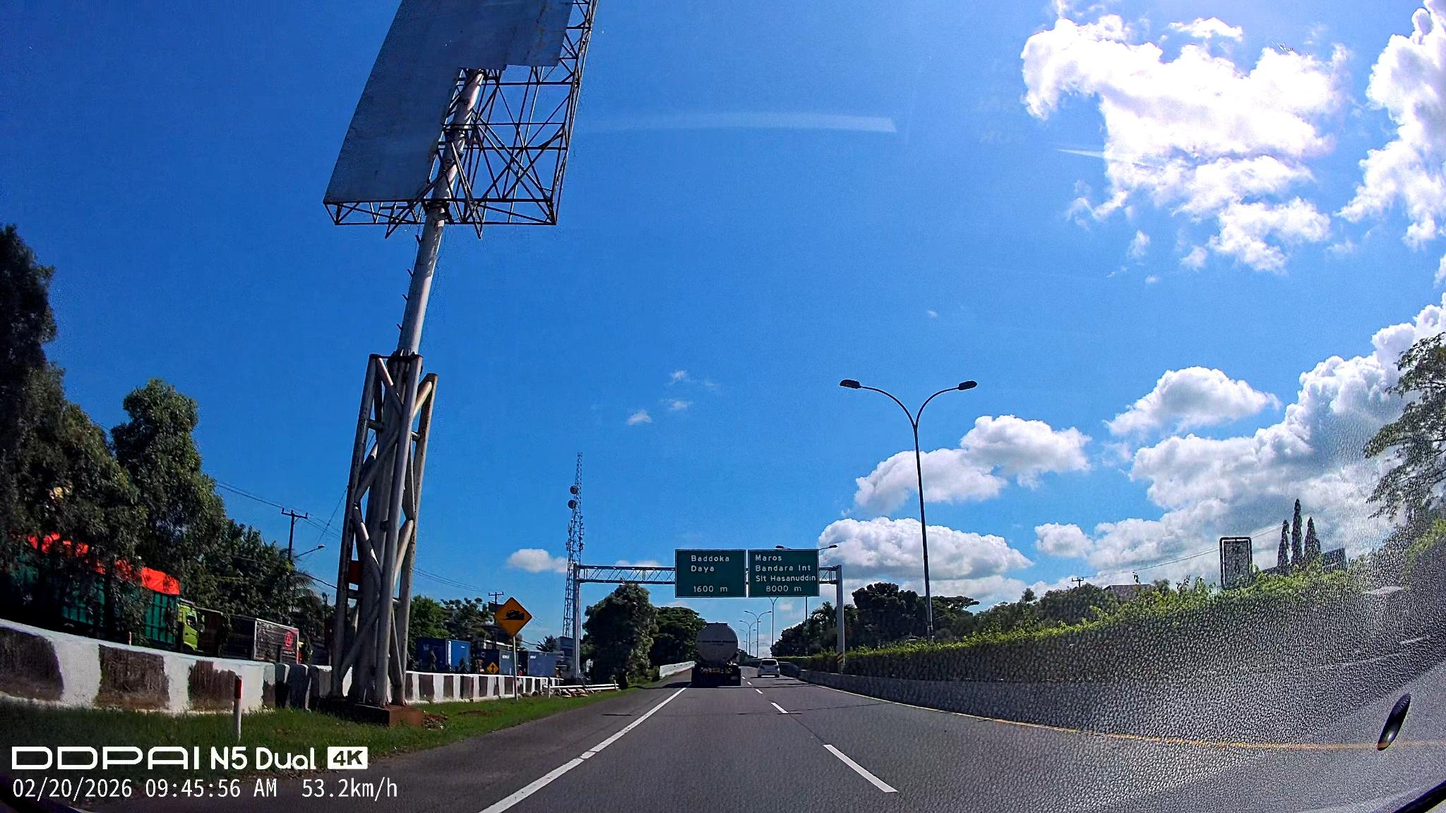rambu_teks: (675, 548, 747, 598), (748, 548, 820, 598)
